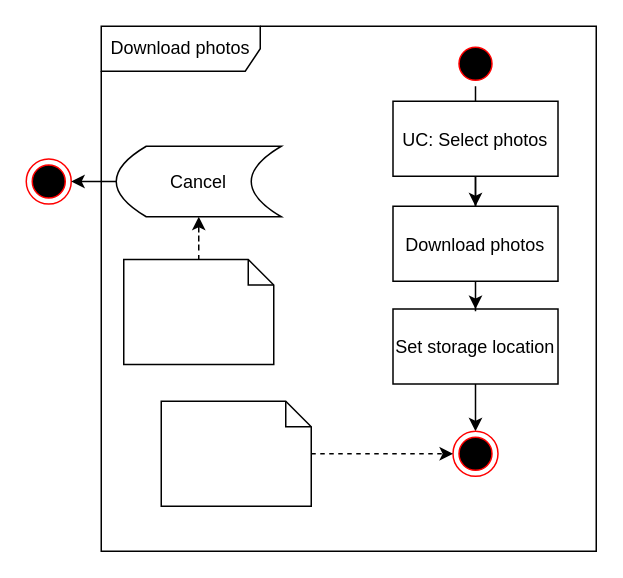
The diagram is 623 pixels wide and 578 high, and some of its shapes have lost their labels. The shapes that lost their labels are listed below. From the top down, each one's centre as x and y in pixels, then its label:
At (x=198, y=311): "You can cancel the activity at any time".
At (x=235, y=453): "Photos end up in the desired storage location".
